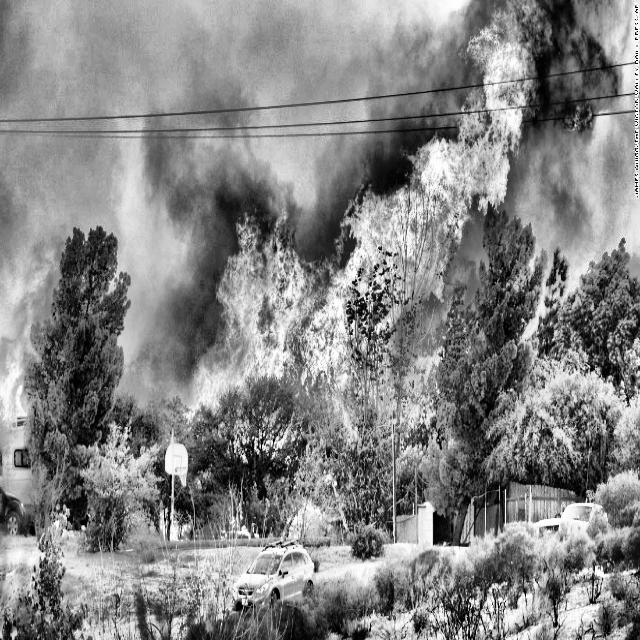fire: (193, 0, 551, 465)
